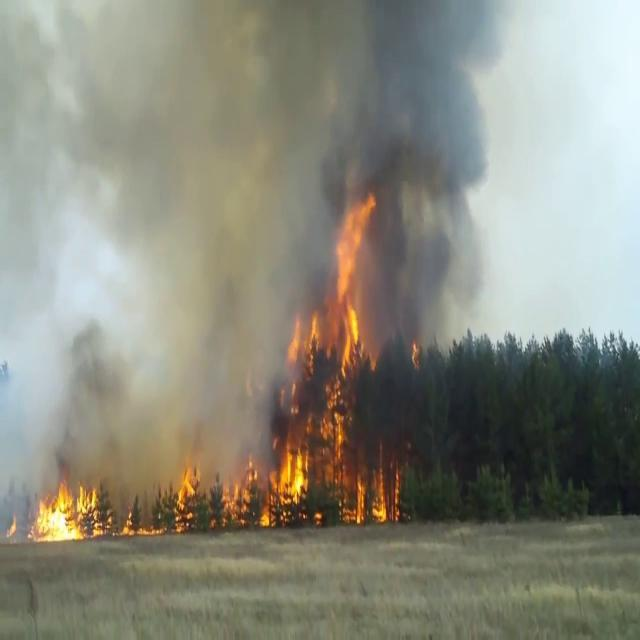Fire: (268, 186, 382, 524), (30, 472, 100, 543), (348, 450, 402, 528), (172, 458, 198, 534)
Smoke: (0, 0, 288, 498), (257, 0, 505, 327)
